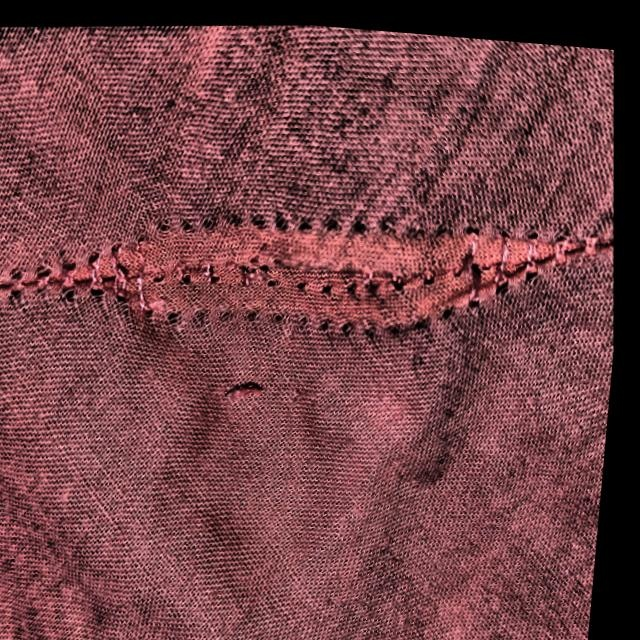seam: (1, 96, 602, 462)
